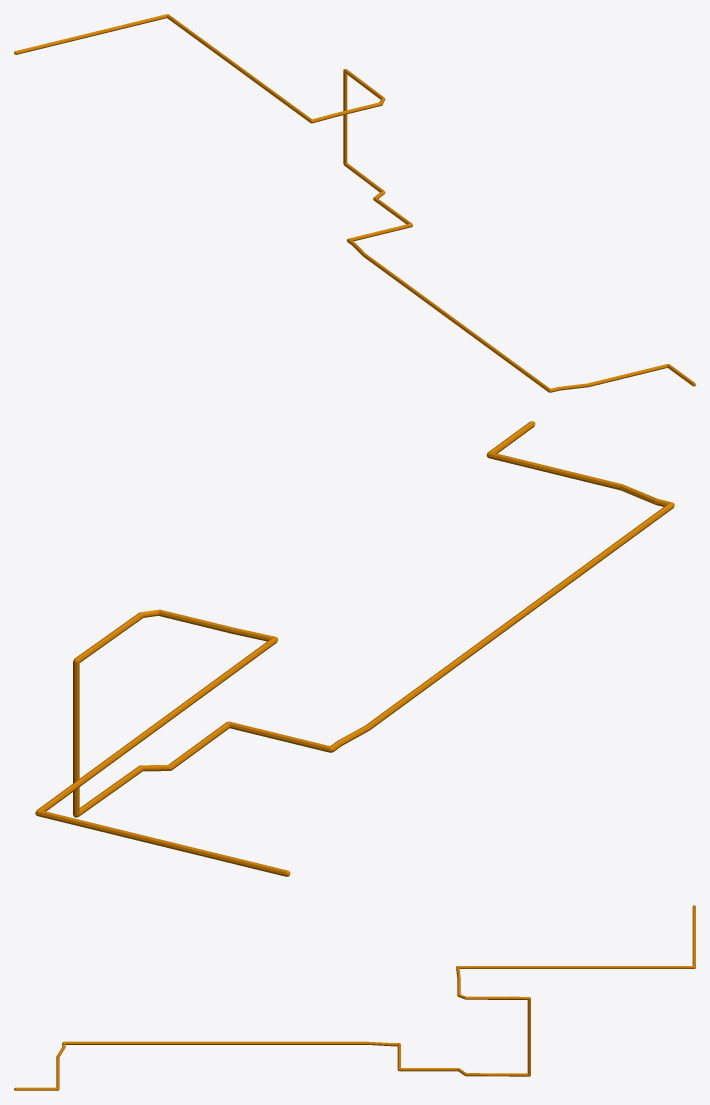
The picture shows the model from 3 angles, top to bottom: view 1: azimuth 30°, elevation 25°; view 2: azimuth 150°, elevation 25°; view 3: azimuth 270°, elevation 25°; orthographic projection. The views are drawn at different scales.
Bounding box in the file's own units: 1502 × 520 × 4037.
